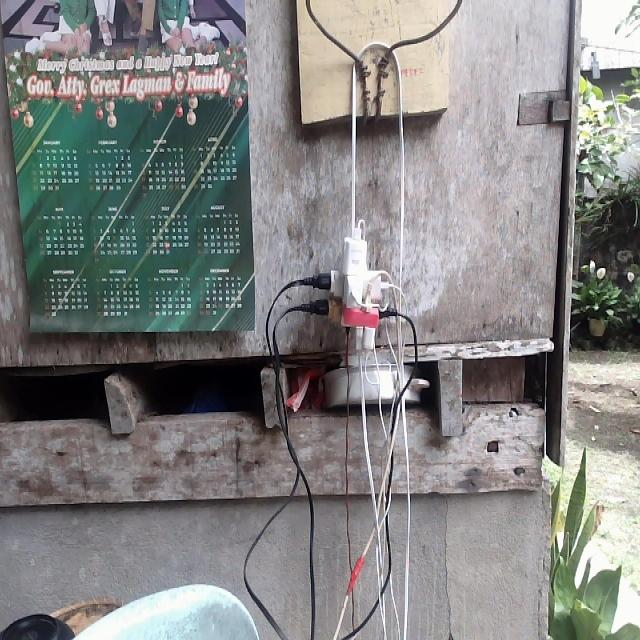-: (316, 223, 394, 353)
